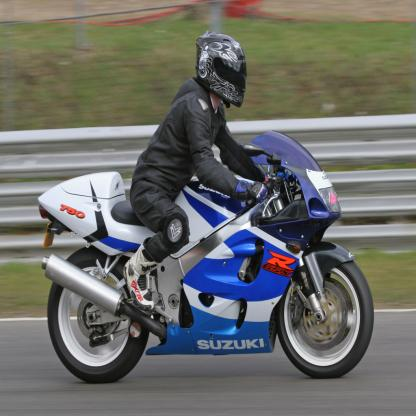Helmet: (194, 33, 248, 114)
